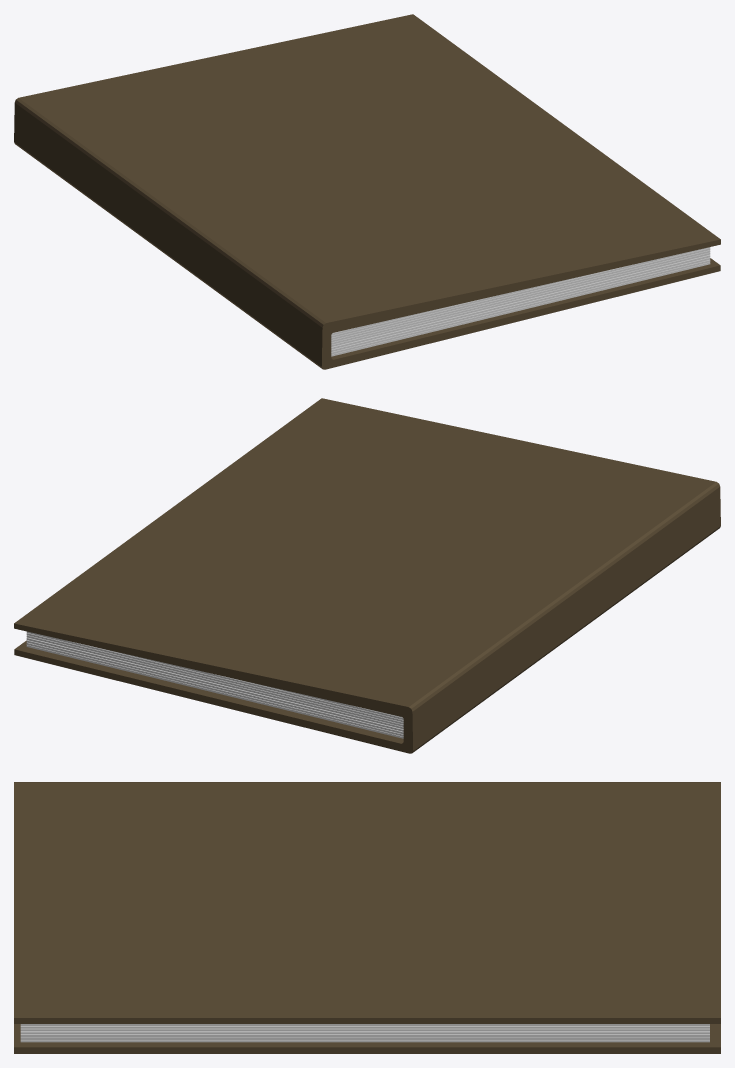
The model's file is Notebook 1.fbx.
The picture shows the model from 3 angles, top to bottom: view 1: azimuth 30°, elevation 25°; view 2: azimuth 150°, elevation 25°; view 3: azimuth 270°, elevation 25°; orthographic projection. The views are drawn at different scales.
Parts seen in each view (by area): view 1: Cube; view 2: Cube; view 3: Cube.
Boxes of the visible parts, <box> form: Cube: <box>14,14,720,369</box>; Cube: <box>14,398,720,753</box>; Cube: <box>14,782,720,1053</box>.
Bounding box in the file's own units: 50.55 × 5.62 × 67.51.
